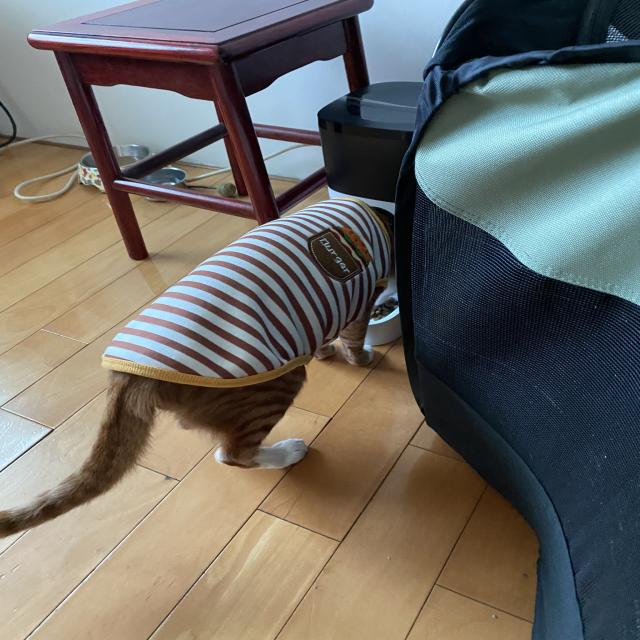cat3: (0, 196, 412, 540)
